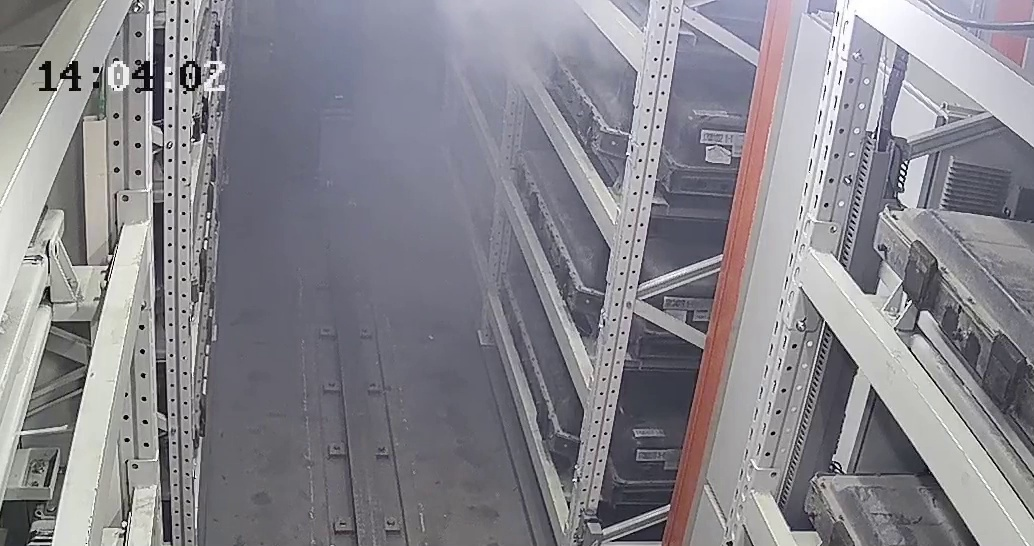smoke: (427, 4, 578, 98)
